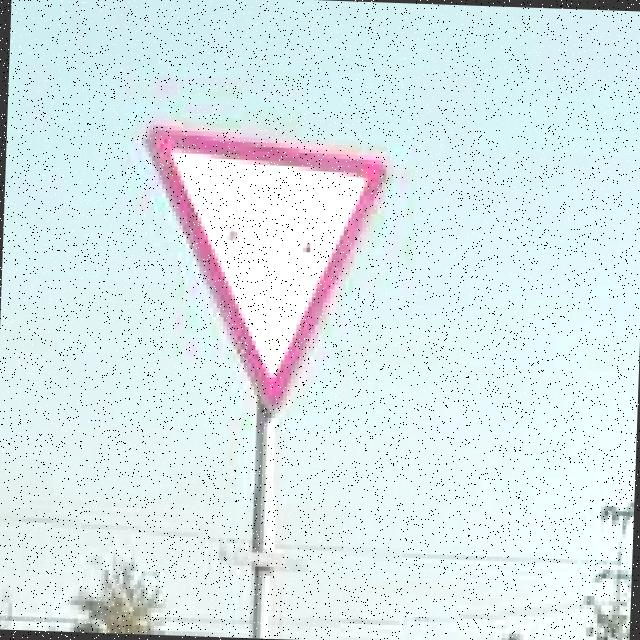Ustap pierwszenstwa: (140, 125, 386, 416)
